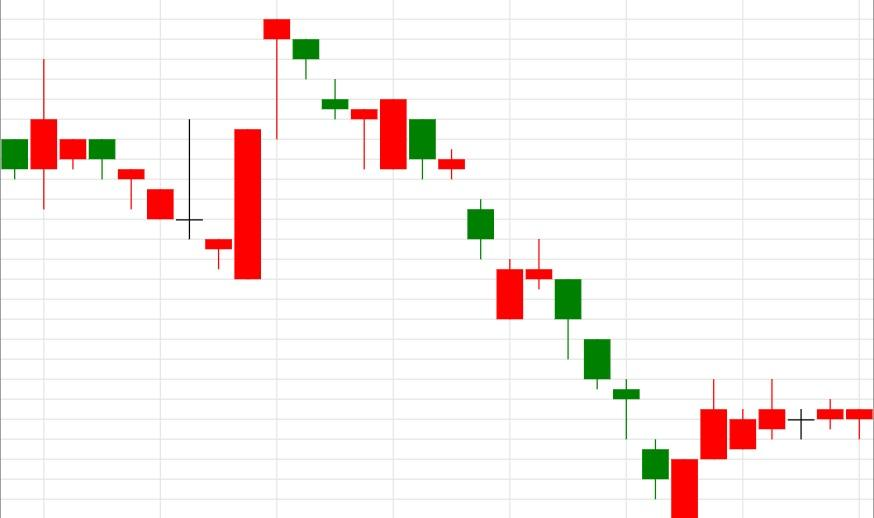hanging_man_fall: (205, 18, 291, 280)
